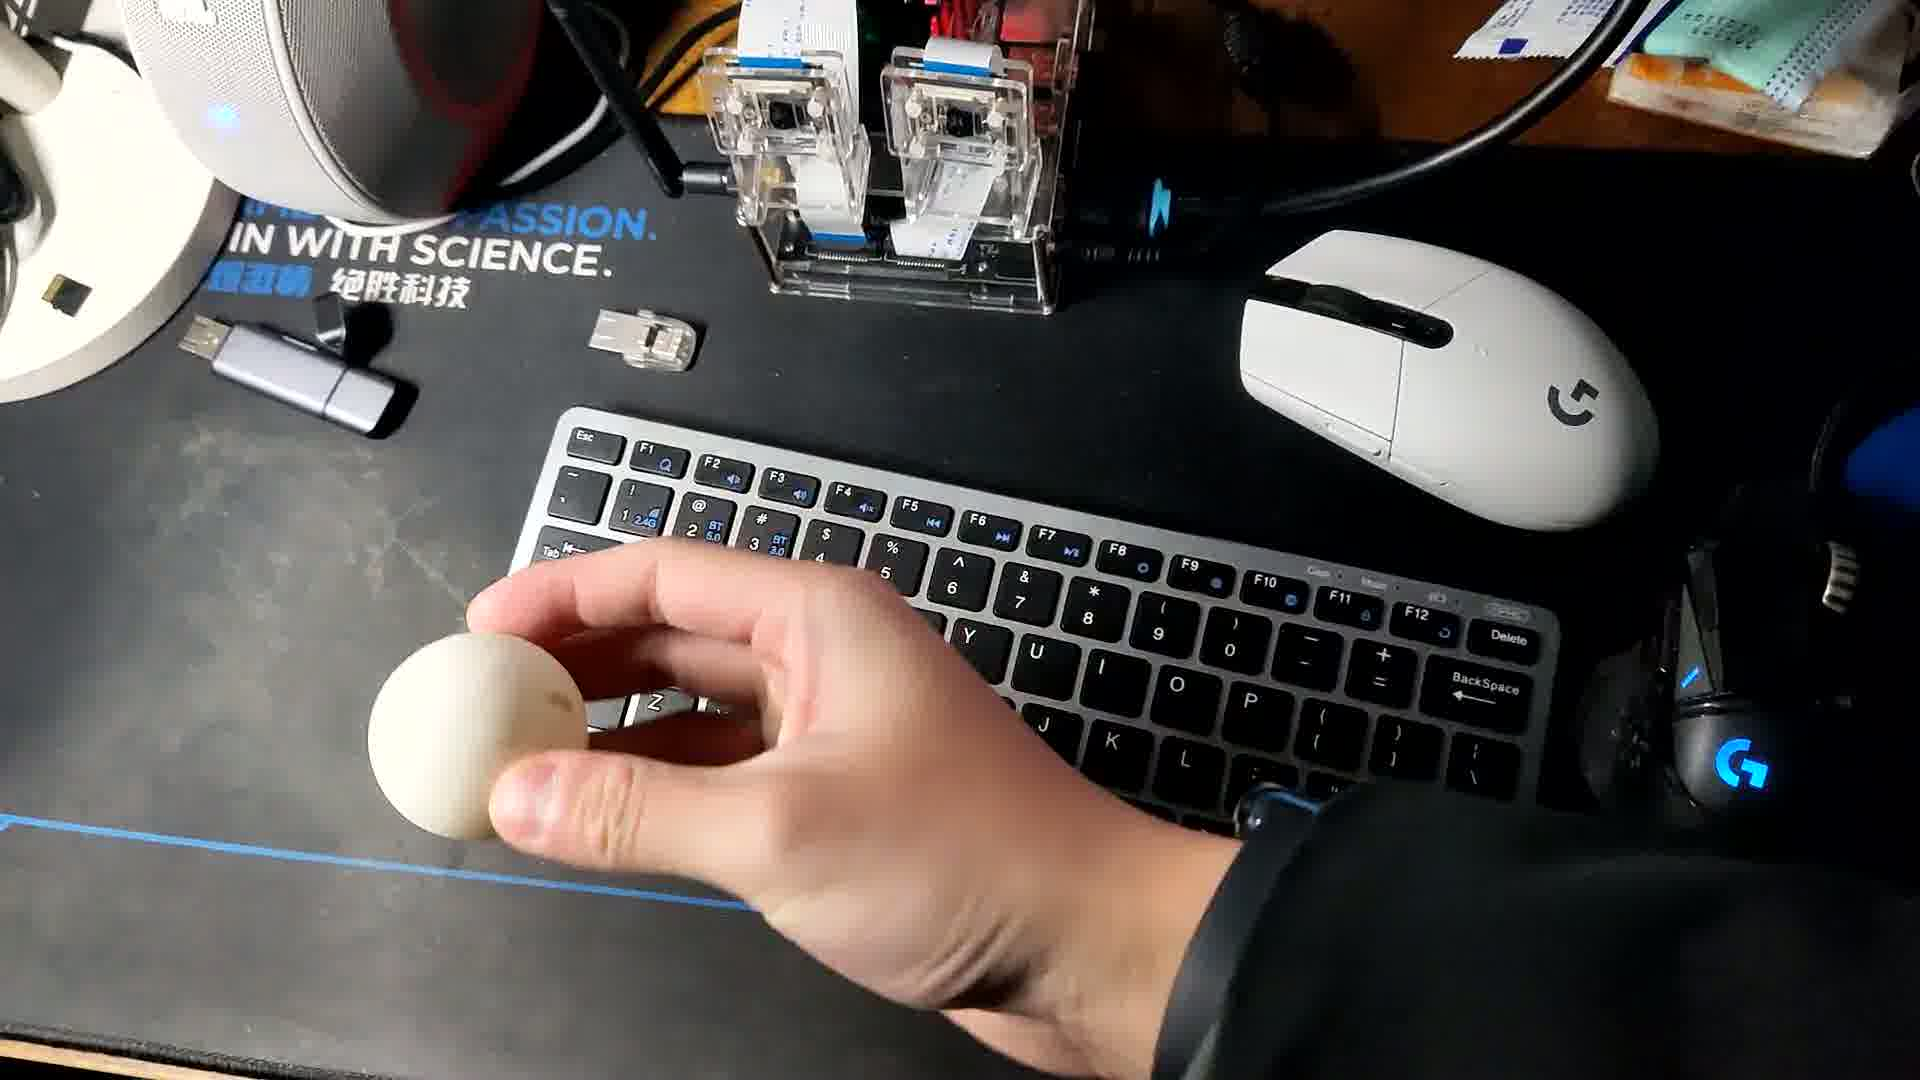Ball: (367, 636, 591, 847)
